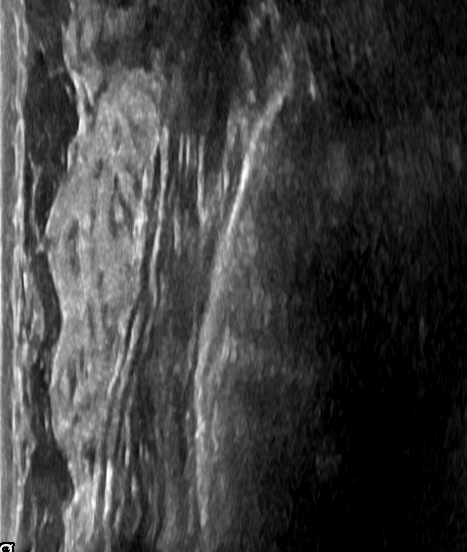Normal: (1, 1, 439, 550)
